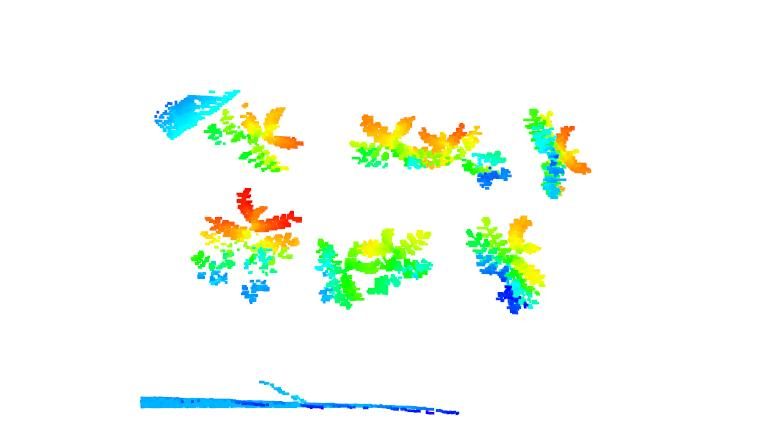chickpea: (192, 187, 301, 306), (465, 214, 548, 314), (205, 102, 306, 173), (521, 105, 592, 199), (359, 225, 439, 296), (316, 233, 366, 308), (354, 113, 418, 169), (418, 121, 483, 167), (461, 150, 513, 193)
